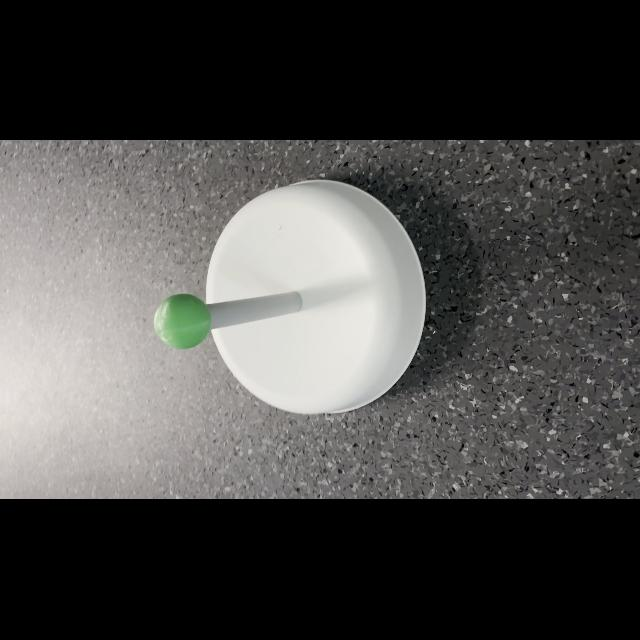objects: (150, 288, 218, 354)
